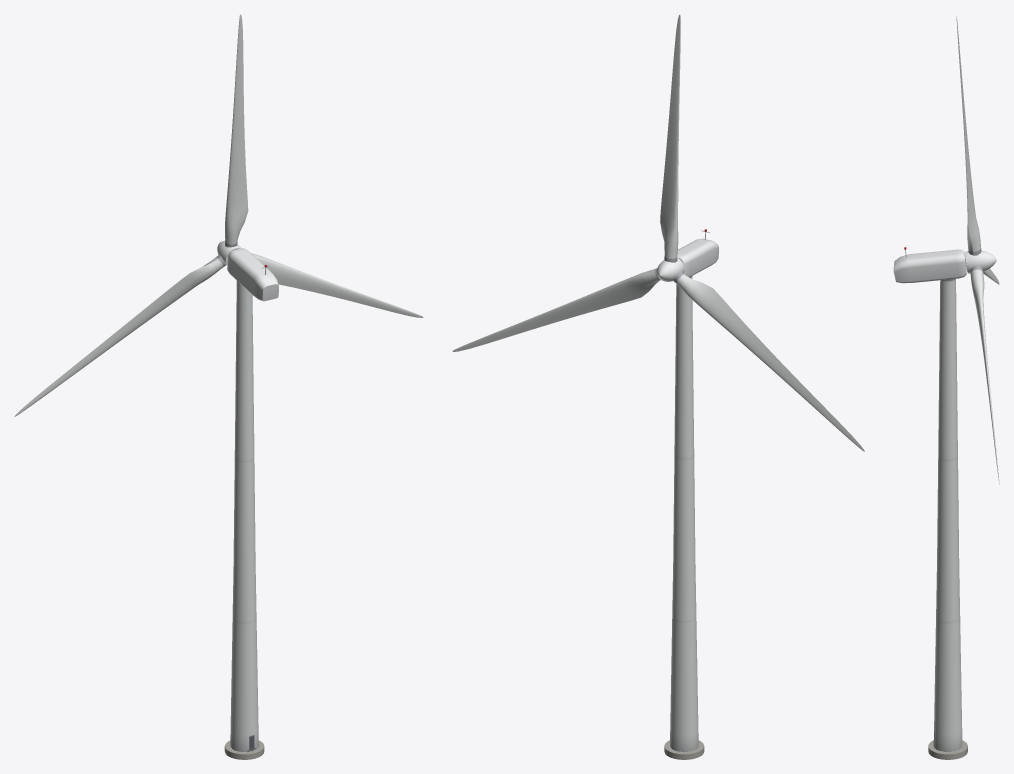
The model's file is wind-turbine.glb.
The picture shows the model from 3 angles, left to right: view 1: azimuth 30°, elevation 25°; view 2: azimuth 150°, elevation 25°; view 3: azimuth 270°, elevation 25°; orthographic projection.
Visible parts, largest first — view 1: turbine, rotor, nacelle; view 2: turbine, rotor, nacelle; view 3: turbine, rotor, nacelle.
Boxes of the visible parts, box(x1,y1,x2,y2) form: turbine: box(224, 280, 264, 759); rotor: box(14, 14, 423, 416); nacelle: box(227, 248, 278, 301); turbine: box(664, 276, 704, 759); rotor: box(452, 14, 864, 451); nacelle: box(677, 229, 718, 277); turbine: box(928, 279, 967, 759); rotor: box(956, 16, 999, 484); nacelle: box(893, 247, 966, 283).
Size of the model in its own units: 69.28 by 119 by 15.48.
Materials: 1 (1 with a texture image).
